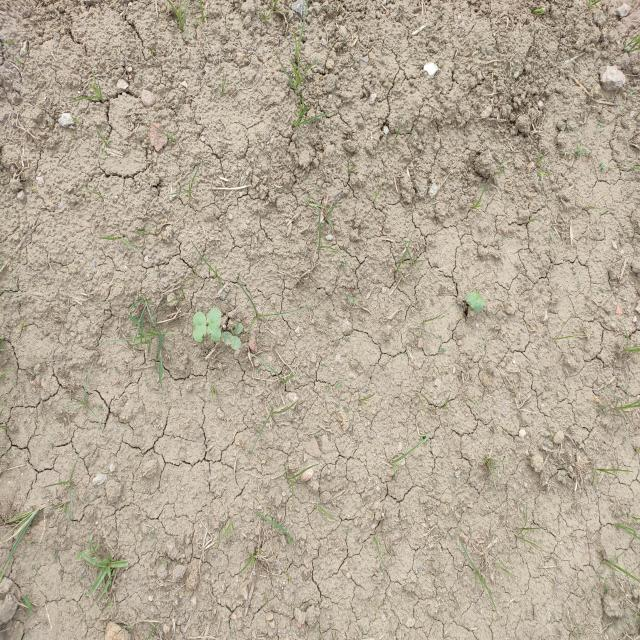seedling_s2: (207, 307, 221, 342), (193, 311, 207, 342), (466, 290, 484, 313), (222, 331, 241, 350)
